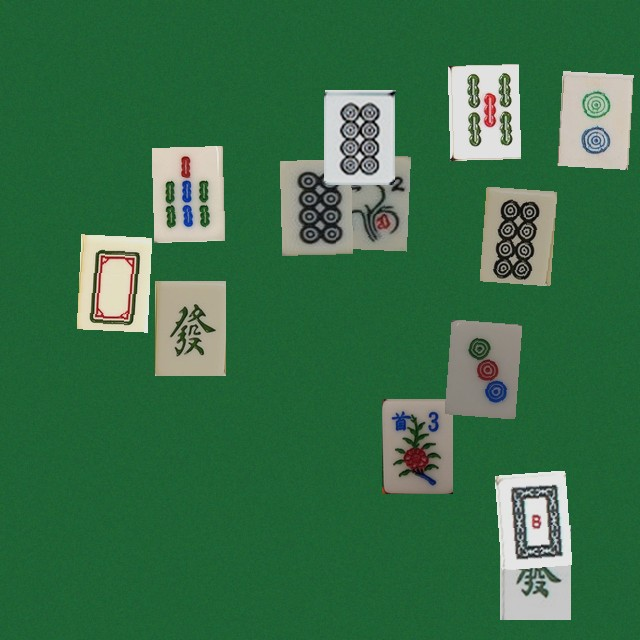tile: (335, 153, 406, 248), (154, 280, 225, 375), (557, 71, 628, 166), (479, 186, 550, 281), (279, 159, 350, 254), (381, 398, 452, 493), (76, 234, 147, 329), (444, 319, 515, 414), (499, 524, 570, 619), (151, 146, 222, 241), (447, 64, 518, 159), (494, 470, 565, 565), (323, 89, 394, 184)
